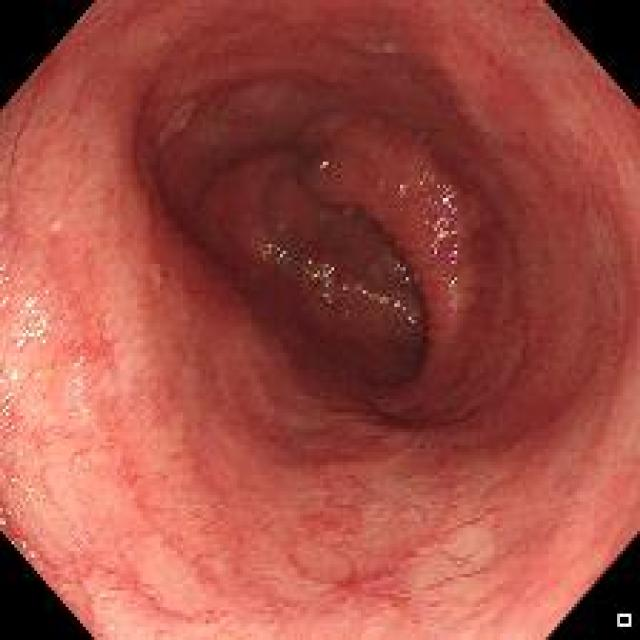color misalignment: (616, 611, 633, 628)
specularity: (261, 244, 335, 305), (428, 180, 458, 258), (17, 296, 55, 350), (343, 287, 406, 310), (448, 277, 461, 317), (416, 169, 432, 197), (1, 371, 20, 387), (449, 244, 463, 265), (70, 378, 84, 397), (23, 552, 39, 568), (2, 421, 19, 435), (1, 267, 12, 288), (392, 258, 406, 273), (26, 479, 39, 494), (397, 181, 407, 200), (448, 228, 462, 239), (405, 276, 419, 286), (75, 358, 85, 371), (1, 296, 10, 309), (72, 409, 88, 416), (3, 393, 14, 403), (3, 406, 12, 418), (408, 314, 417, 325), (2, 109, 8, 124), (321, 160, 328, 172), (17, 448, 26, 457), (99, 593, 108, 602), (52, 224, 60, 234), (52, 431, 60, 441), (83, 465, 93, 472), (73, 459, 82, 466), (10, 476, 17, 485), (32, 375, 41, 381), (24, 398, 32, 404), (52, 367, 60, 373), (1, 471, 7, 479), (86, 471, 95, 476), (24, 498, 33, 503), (20, 542, 27, 548), (70, 536, 78, 541), (7, 456, 12, 463), (9, 540, 15, 545), (2, 520, 7, 526), (1, 453, 7, 458), (12, 399, 19, 403), (34, 410, 41, 414), (9, 441, 14, 446), (4, 466, 8, 470), (4, 440, 6, 444)
